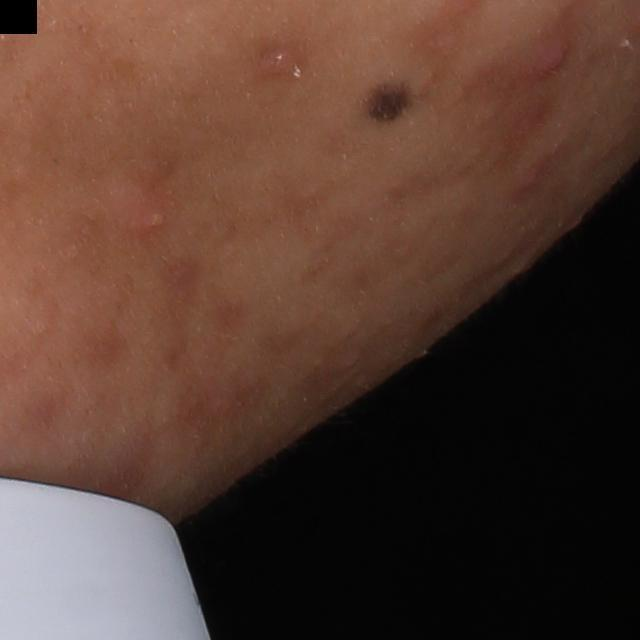nevus: (363, 77, 415, 123)
papule: (527, 30, 577, 84), (511, 162, 549, 201), (260, 50, 300, 77)
